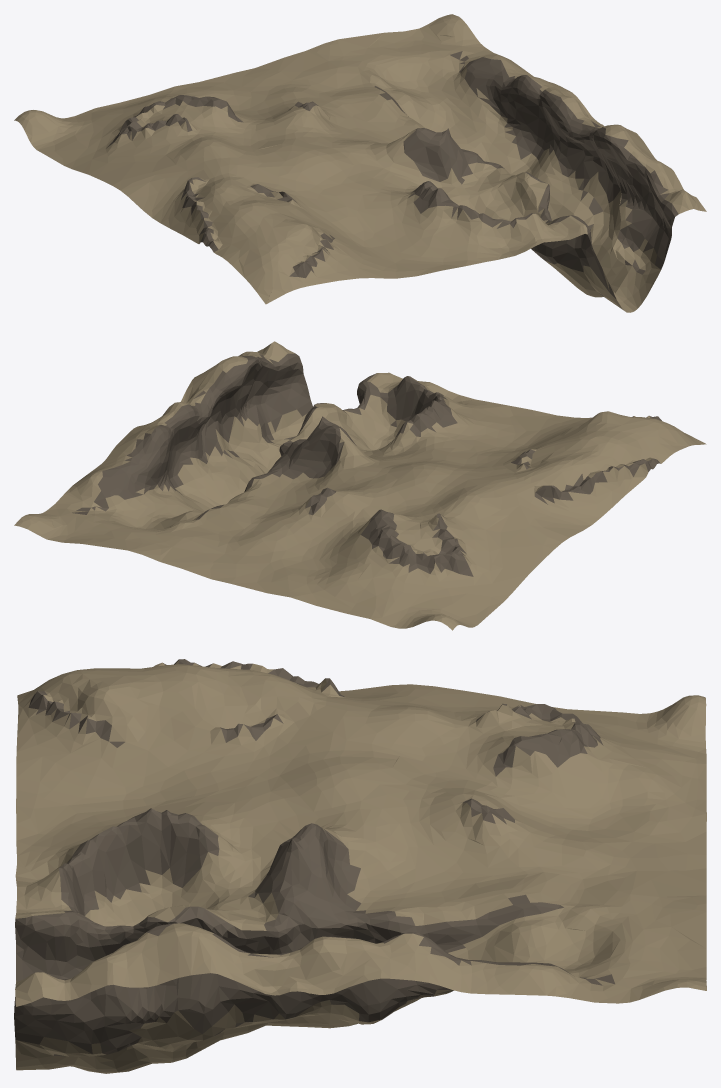
The model's file is Terrain.fbx.
3 renders of one model, top to bottom at view 1: azimuth 30°, elevation 25°; view 2: azimuth 150°, elevation 25°; view 3: azimuth 270°, elevation 25°, orthographic. The views are drawn at different scales.
Parts seen in each view (by area): view 1: Terrain; view 2: Terrain; view 3: Terrain.
Part boxes in pixels (<box>): Terrain: <box>14,14,706,312</box>; Terrain: <box>14,341,706,630</box>; Terrain: <box>14,659,706,1073</box>.
Size of the model in its own units: 6725 by 2054 by 6670.
